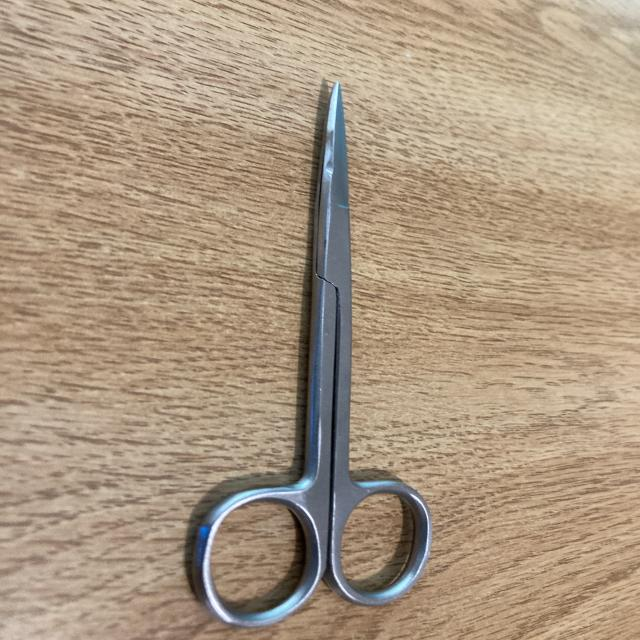scissor: (189, 75, 433, 631)
